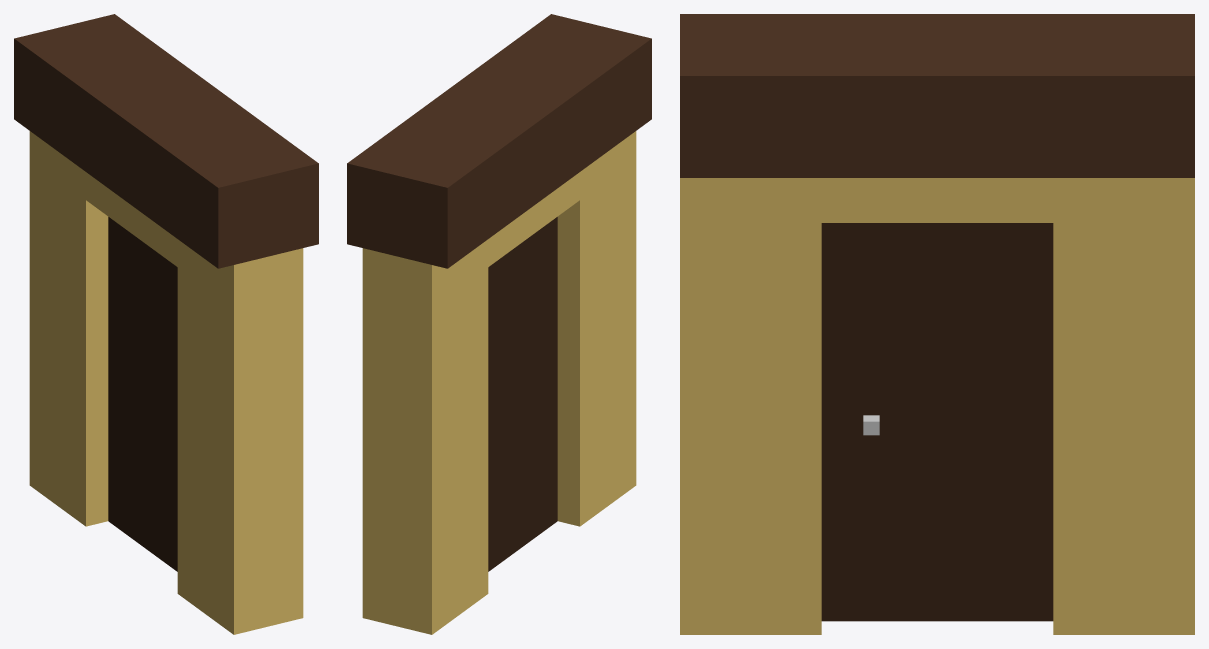
The model's file is Wall_Doorway_Closed.fbx.
3 views of the same model, side by side, from view 1: azimuth 30°, elevation 25°; view 2: azimuth 150°, elevation 25°; view 3: azimuth 270°, elevation 25° (orthographic). The views are drawn at different scales.
Visible parts, largest first — view 1: Wall Doorway Closed; view 2: Wall Doorway Closed; view 3: Wall Doorway Closed.
Boxes of the visible parts, <box> form: Wall Doorway Closed: <box>14,14,318,634</box>; Wall Doorway Closed: <box>347,14,651,634</box>; Wall Doorway Closed: <box>680,14,1194,634</box>.
Bounding box in the file's own units: 56.9 × 244 × 200.
